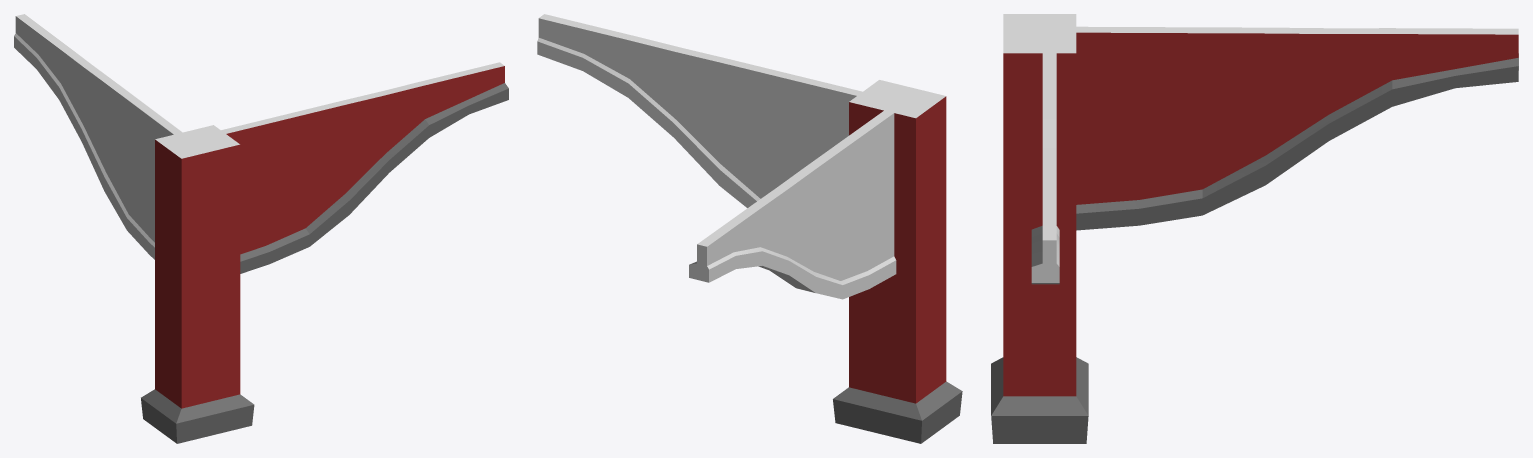
File: stool_legs_corner.fbx
The picture shows the model from 3 angles, left to right: view 1: azimuth 30°, elevation 25°; view 2: azimuth 150°, elevation 25°; view 3: azimuth 270°, elevation 25°; orthographic projection. The views are drawn at different scales.
Visible parts, largest first — view 1: Stuhl.001; view 2: Stuhl.001; view 3: Stuhl.001.
Part boxes in pixels (box(x1,y1,x2,y2)): Stuhl.001: box(14, 14, 508, 443); Stuhl.001: box(537, 14, 962, 443); Stuhl.001: box(991, 14, 1518, 443).
Bounding box in the file's own units: 37.47 × 28.9 × 35.89.
